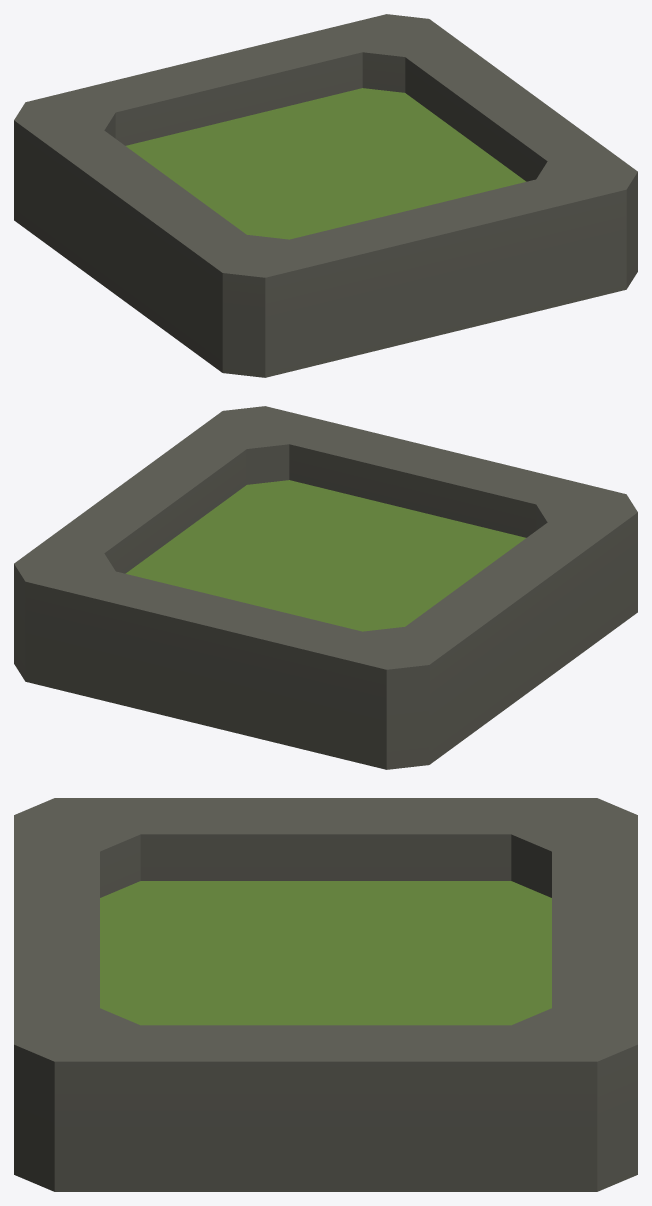
The model's file is Bed_02.fbx.
The picture shows the model from 3 angles, top to bottom: view 1: azimuth 30°, elevation 25°; view 2: azimuth 150°, elevation 25°; view 3: azimuth 270°, elevation 25°; orthographic projection. The views are drawn at different scales.
Visible parts, largest first — view 1: Bed_02; view 2: Bed_02; view 3: Bed_02.
Boxes of the visible parts, box(x1,y1,x2,y2) form: Bed_02: box(14, 14, 637, 377); Bed_02: box(14, 406, 637, 769); Bed_02: box(14, 798, 637, 1191).
Size of the model in its own units: 0.6363 by 0.1465 by 0.6363.
